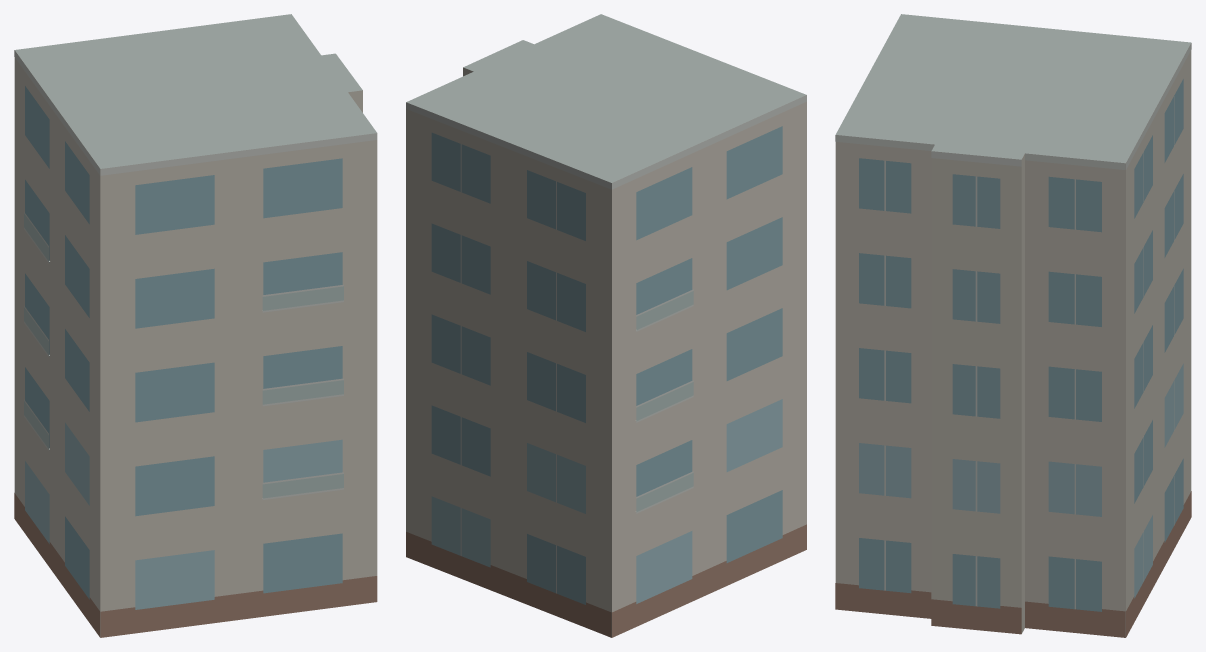
Rendered from survey-upis-32657724.glb.
3 renders of one model, left to right at view 1: azimuth 30°, elevation 25°; view 2: azimuth 150°, elevation 25°; view 3: azimuth 270°, elevation 25°, orthographic. The views are drawn at different scales.
Visible parts, largest first — view 1: survey-upis-32657724.tmp; view 2: survey-upis-32657724.tmp; view 3: survey-upis-32657724.tmp.
Part boxes in pixels (x1,y1,x2,y2): survey-upis-32657724.tmp: (14, 14, 377, 637); survey-upis-32657724.tmp: (406, 14, 806, 637); survey-upis-32657724.tmp: (835, 14, 1191, 637).
Size of the model in its own units: 11.31 by 16.75 by 11.4.
